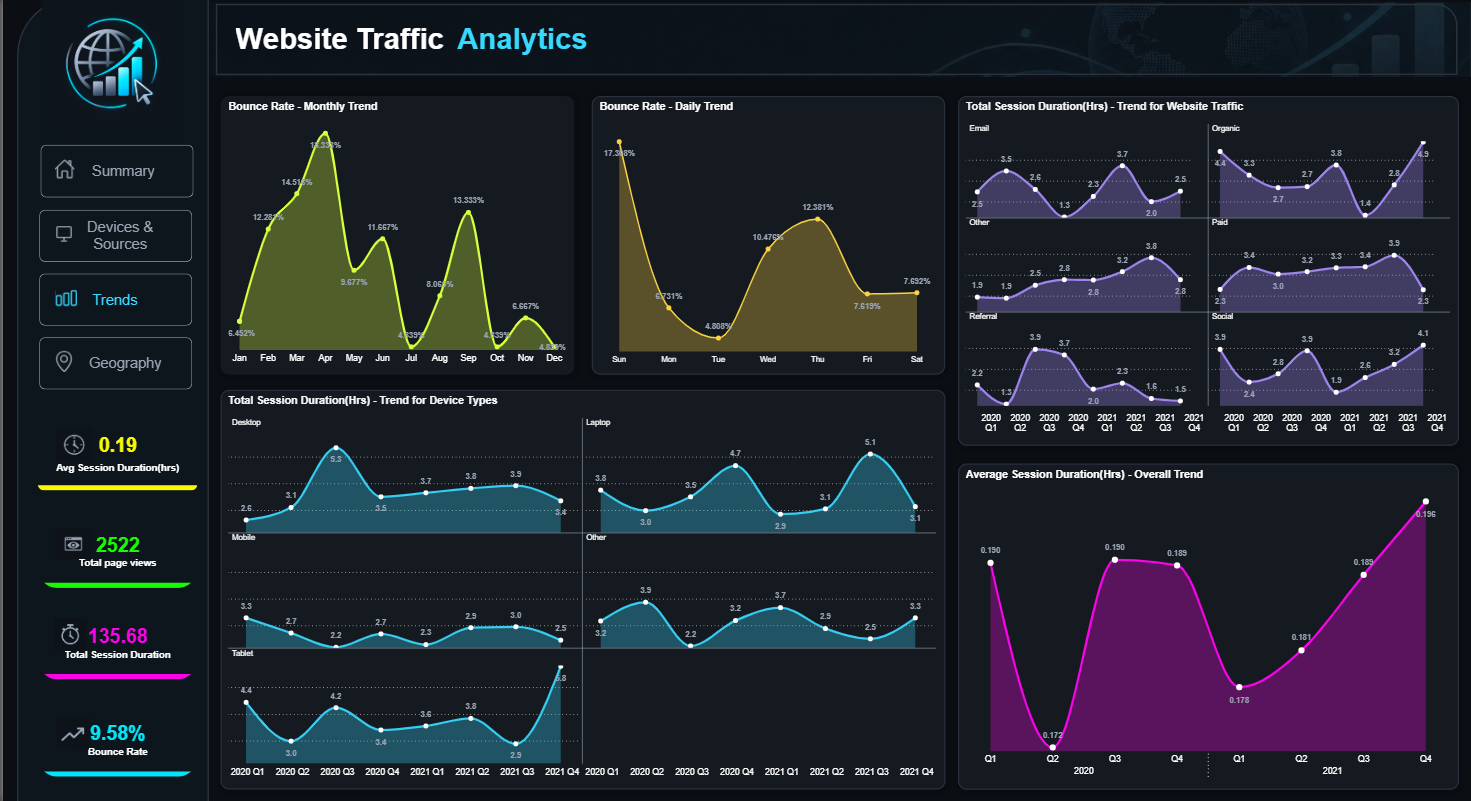

Layout of this report page (visuals, bound fields, positions):
{"tool":"powerbi","page":{"name":"Website traffic trend  over time","canvas":[2000,1100],"ordinal":2},"visuals":[{"type":"image","box":[86.6,9.2,1913.2,101.4],"z":0},{"type":"areaChart","title":"Total Session Duration(Hrs) - Trend for Device Types","fields":{"Category":["Date_Lookup.Year","Date_Lookup.Quarter"],"Rows":["device_lookup.Device_Type"],"Y":["#Measures.Total_Session_Duration"]},"box":[295.9,535.7,986.4,544.2],"z":3000},{"type":"areaChart","title":"Total Session Duration(Hrs) - Trend for Website Traffic","fields":{"Category":["Date_Lookup.Year","Date_Lookup.Quarter"],"Rows":["source_lookup.website_Traffic_Sources"],"Y":["#Measures.Total_Session_Duration"]},"box":[1299.3,136.1,682,476.2],"z":5000},{"type":"cardVisual","fields":{"Data":["#Measures.Avg_Session_Duration"]},"box":[30,558,251.5,132.3],"z":7000,"group":"g2"},{"type":"areaChart","title":"Average Session Duration(Hrs) - Overall Trend","fields":{"Category":["Date_Lookup.Year","Date_Lookup.Quarter"],"Y":["#Measures.Avg_Session_Duration"]},"box":[1299.3,636.1,682,443.9],"z":7000},{"type":"areaChart","title":"Bounce Rate - Monthly Trend","fields":{"Category":["Date_Lookup.MonthName"],"Y":["#Measures.Bounce_Rate"]},"box":[296,136,481.3,379],"z":8000},{"type":"shape","box":[282,9.2,352,101.4],"z":9000,"group":"g1"},{"type":"areaChart","title":"Bounce Rate - Daily Trend","fields":{"Category":["Date_Lookup.Day"],"Y":["#Measures.Bounce_Rate"]},"box":[801,136.1,481,379],"z":9000},{"type":"cardVisual","fields":{"Data":["#Measures.Total_page_views"]},"box":[30,690.3,251.5,132.3],"z":9000,"group":"g5"},{"type":"shape","box":[17.4,0,265.3,1100.4],"z":10000},{"type":"image","box":[16.6,0,263.6,191.7],"z":11000},{"type":"cardVisual","fields":{"Data":["#Measures.Total_Session_Duration"]},"box":[30,815.3,251.5,132.3],"z":11000,"group":"g3"},{"type":"shape","box":[287.5,9.2,1693.9,101.4],"z":12000},{"type":"group","id":"g1","title":"Group 1","box":[282,9.2,540,101.4],"z":13000},{"type":"cardVisual","fields":{"Data":["#Measures.Bounce_Rate"]},"box":[30,947.5,251.5,132.3],"z":13000,"group":"g4"},{"type":"actionButton","title":"Summary Button","box":[51.6,202.7,208.3,71.9],"z":14000},{"type":"actionButton","title":"Device&Sources Button","box":[49.8,290.5,208,71],"z":15000},{"type":"actionButton","title":"trends Button","box":[49.8,377.4,208,71],"z":16000},{"type":"actionButton","title":"Geography Button","box":[49.3,464.3,208,71],"z":17000},{"type":"group","id":"g2","title":"Group 3","box":[30,558,251.5,132.3],"z":17500},{"type":"group","id":"g3","title":"Group 5","box":[30,815.3,251.5,132.3],"z":18000},{"type":"group","id":"g4","title":"Group 6","box":[30,947.5,251.5,132.3],"z":18500},{"type":"group","id":"g5","title":"Group 4","box":[30,690.3,251.5,132.3],"z":19000},{"type":"image","box":[70,981.1,47,44],"z":23000,"group":"g4"},{"type":"image","box":[68,848,47,44],"z":24000,"group":"g3"},{"type":"image","box":[73,587,47.8,48.9],"z":25000,"group":"g2"},{"type":"image","box":[70,723,49,46],"z":25001,"group":"g5"},{"type":"shape","box":[610.1,9.2,212,101.4],"z":26000,"group":"g1"}]}

Visuals, with their boxes in screenshot pixels (x1, y1, x2, y2), scaled from the page's 2000x1100 canvas onto the 1471x801 screenshot:
image: {"x1": 64, "y1": 7, "x2": 1470, "y2": 81}
"Total Session Duration(Hrs) - Trend for Device Types" areaChart: {"x1": 218, "y1": 390, "x2": 943, "y2": 786}
"Total Session Duration(Hrs) - Trend for Website Traffic" areaChart: {"x1": 956, "y1": 99, "x2": 1457, "y2": 446}
cardVisual - #Measures.Avg_Session_Duration: {"x1": 22, "y1": 406, "x2": 207, "y2": 503}
"Average Session Duration(Hrs) - Overall Trend" areaChart: {"x1": 956, "y1": 463, "x2": 1457, "y2": 786}
"Bounce Rate - Monthly Trend" areaChart: {"x1": 218, "y1": 99, "x2": 572, "y2": 375}
shape: {"x1": 207, "y1": 7, "x2": 466, "y2": 81}
"Bounce Rate - Daily Trend" areaChart: {"x1": 589, "y1": 99, "x2": 943, "y2": 375}
cardVisual - #Measures.Total_page_views: {"x1": 22, "y1": 503, "x2": 207, "y2": 599}
shape: {"x1": 13, "y1": 0, "x2": 208, "y2": 800}
image: {"x1": 12, "y1": 0, "x2": 206, "y2": 140}
cardVisual - #Measures.Total_Session_Duration: {"x1": 22, "y1": 594, "x2": 207, "y2": 690}
shape: {"x1": 211, "y1": 7, "x2": 1457, "y2": 81}
"Group 1" group: {"x1": 207, "y1": 7, "x2": 605, "y2": 81}
cardVisual - #Measures.Bounce_Rate: {"x1": 22, "y1": 690, "x2": 207, "y2": 786}
"Summary Button" actionButton: {"x1": 38, "y1": 148, "x2": 191, "y2": 200}
"Device&Sources Button" actionButton: {"x1": 37, "y1": 212, "x2": 190, "y2": 263}
"trends Button" actionButton: {"x1": 37, "y1": 275, "x2": 190, "y2": 327}
"Geography Button" actionButton: {"x1": 36, "y1": 338, "x2": 189, "y2": 390}
"Group 3" group: {"x1": 22, "y1": 406, "x2": 207, "y2": 503}
"Group 5" group: {"x1": 22, "y1": 594, "x2": 207, "y2": 690}
"Group 6" group: {"x1": 22, "y1": 690, "x2": 207, "y2": 786}
"Group 4" group: {"x1": 22, "y1": 503, "x2": 207, "y2": 599}
image: {"x1": 51, "y1": 714, "x2": 86, "y2": 746}
image: {"x1": 50, "y1": 617, "x2": 85, "y2": 650}
image: {"x1": 54, "y1": 427, "x2": 89, "y2": 463}
image: {"x1": 51, "y1": 526, "x2": 88, "y2": 560}
shape: {"x1": 449, "y1": 7, "x2": 605, "y2": 81}
